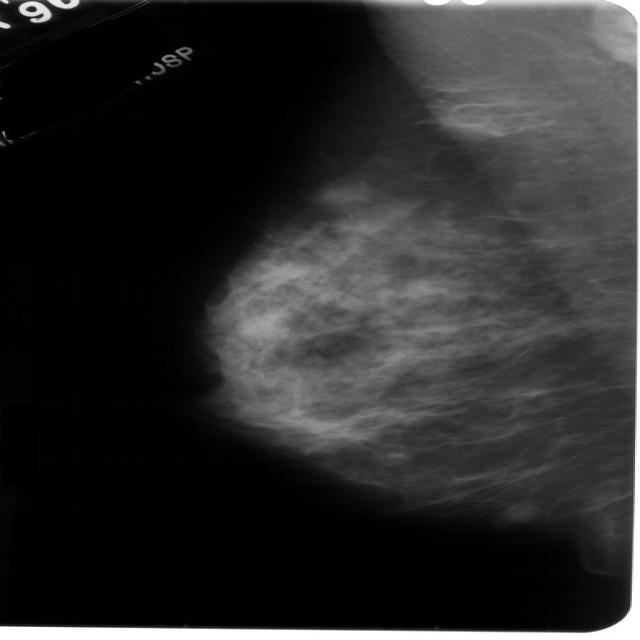tumour: (501, 502, 538, 521)
